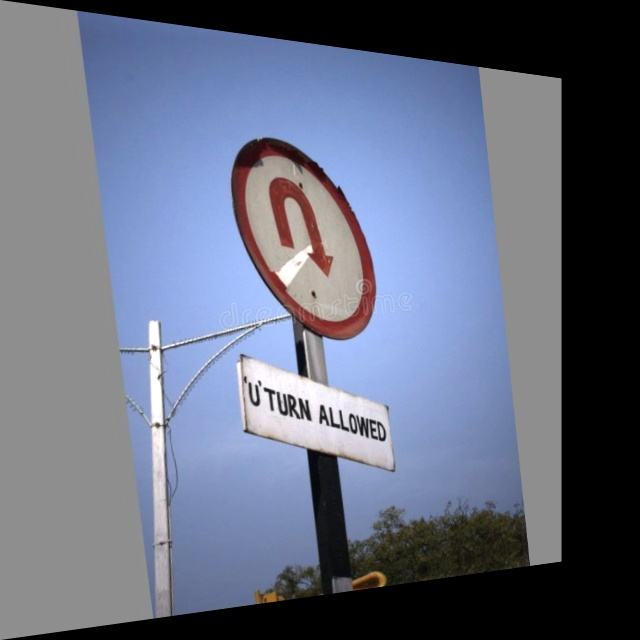U_Turn_Ahead: (213, 112, 389, 344)
